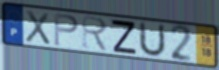2: (169, 23, 194, 64)
P: (53, 12, 80, 48)
R: (81, 14, 110, 54)
U: (138, 20, 167, 58)
X: (24, 8, 52, 47)
Z: (109, 18, 138, 56)
